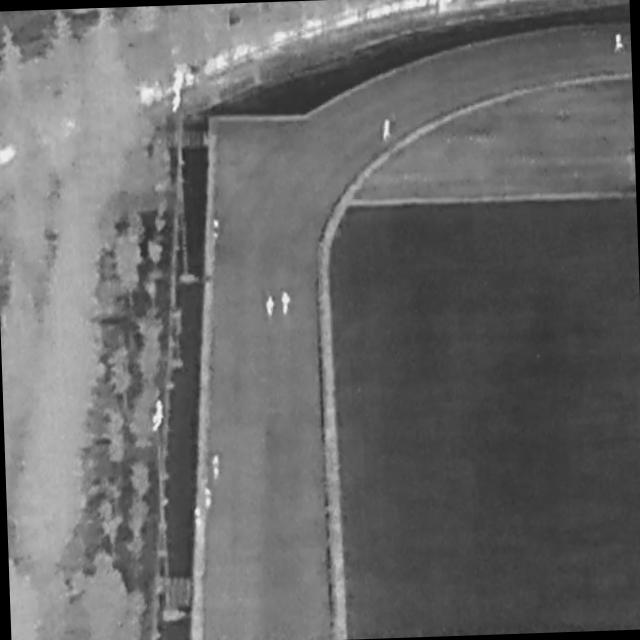person: (280, 291, 292, 319), (382, 119, 392, 143), (265, 296, 275, 319), (213, 456, 222, 480), (205, 486, 214, 510), (195, 507, 204, 531), (615, 33, 624, 54), (213, 220, 221, 240)
